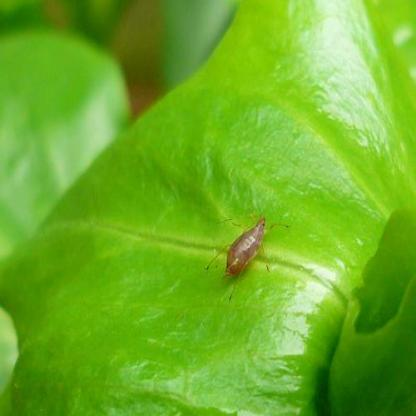aphid: (204, 196, 286, 297)
